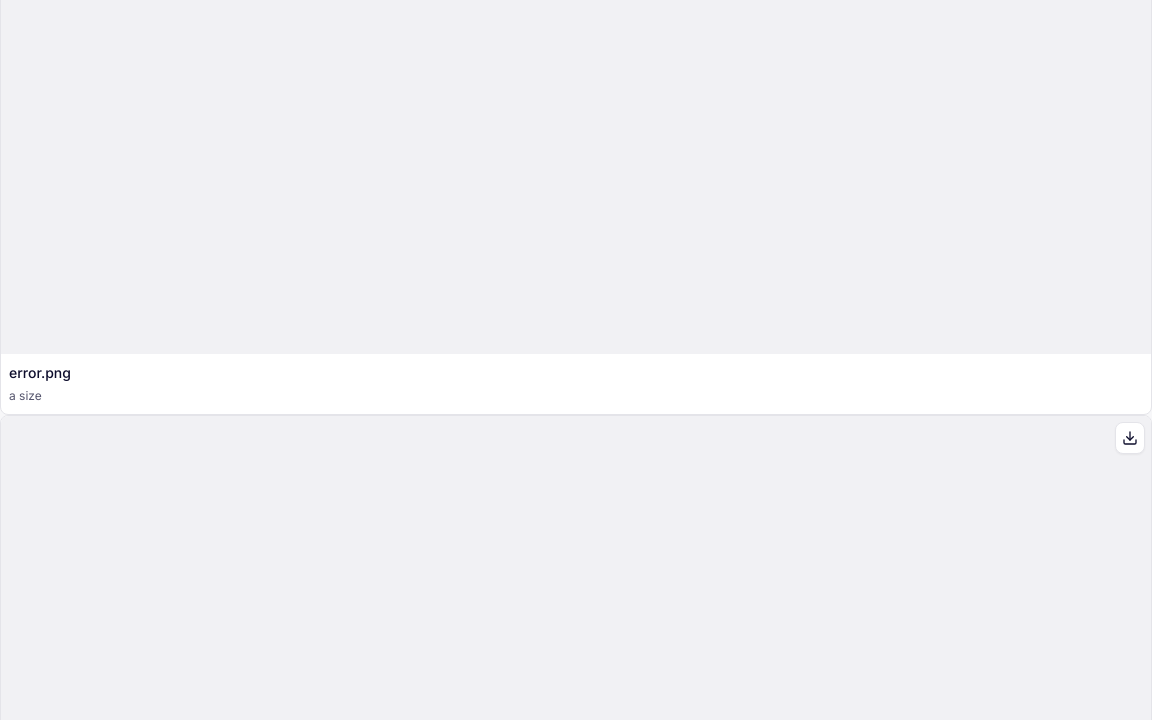
Test: AttachmentViewer › gives focus to the tile of the file shown last when it closes
(page scrolled)
Click the button with aria-label "Open error.png": [40, 372] box [9, 362, 1143, 384]
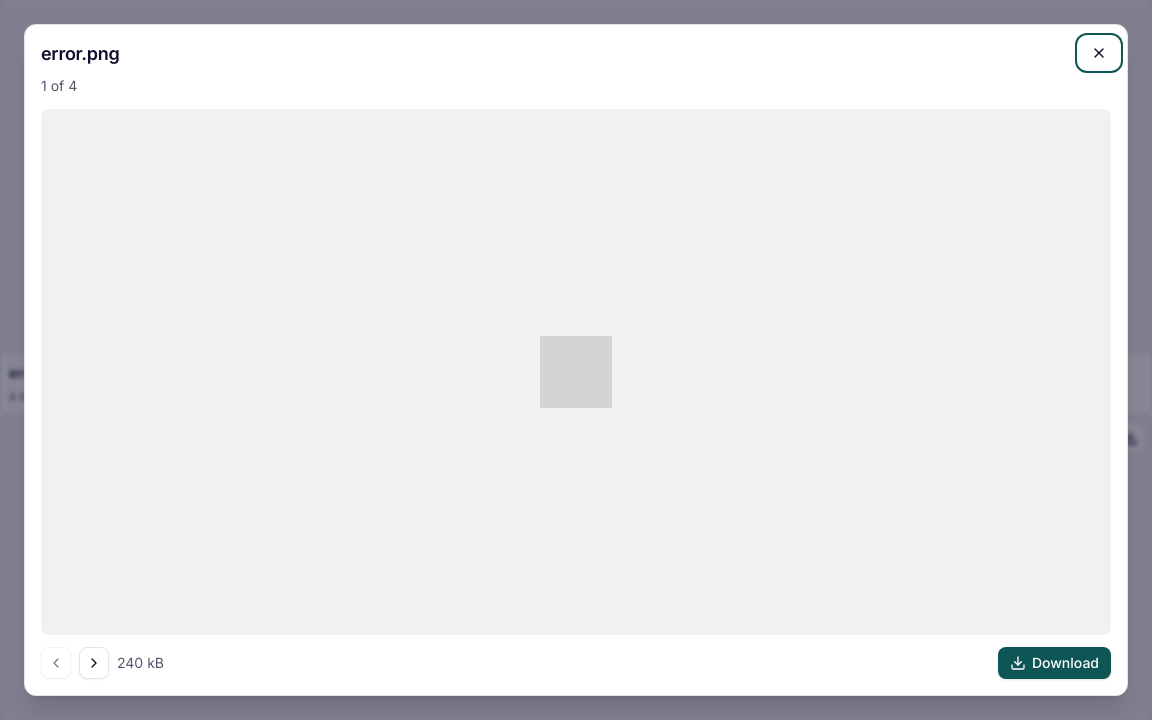
Click the button named "Next file": [94, 663] box [79, 647, 109, 679]
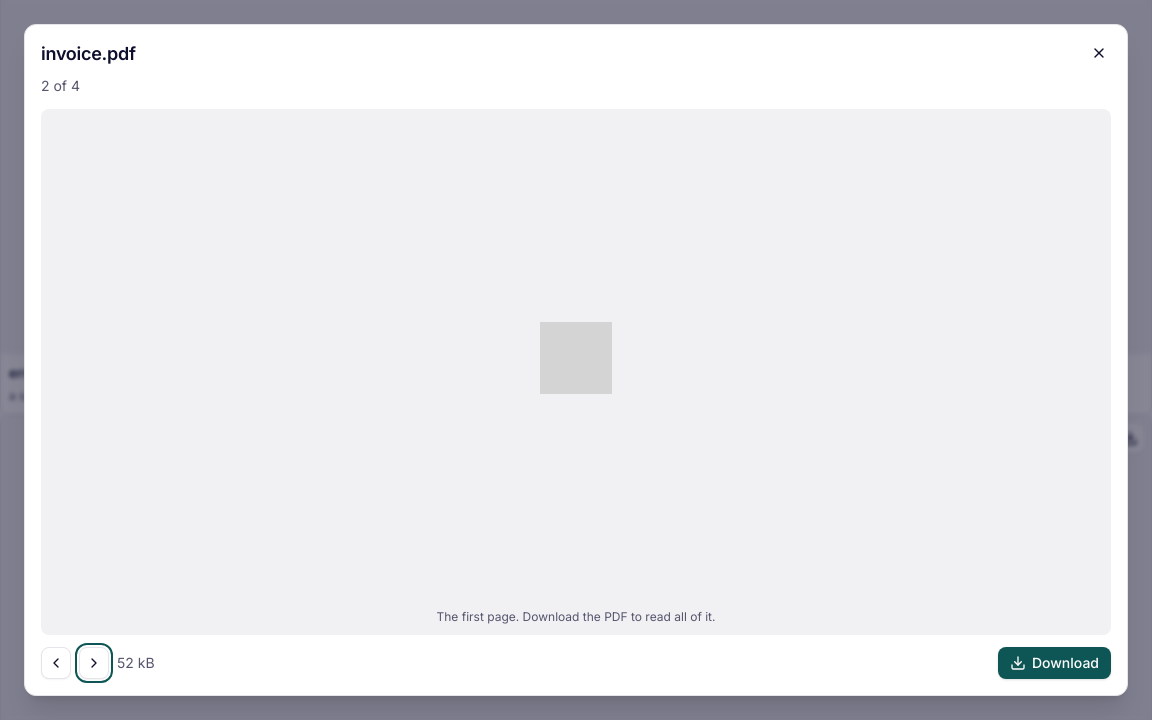
Press Escape
(page scrolled)
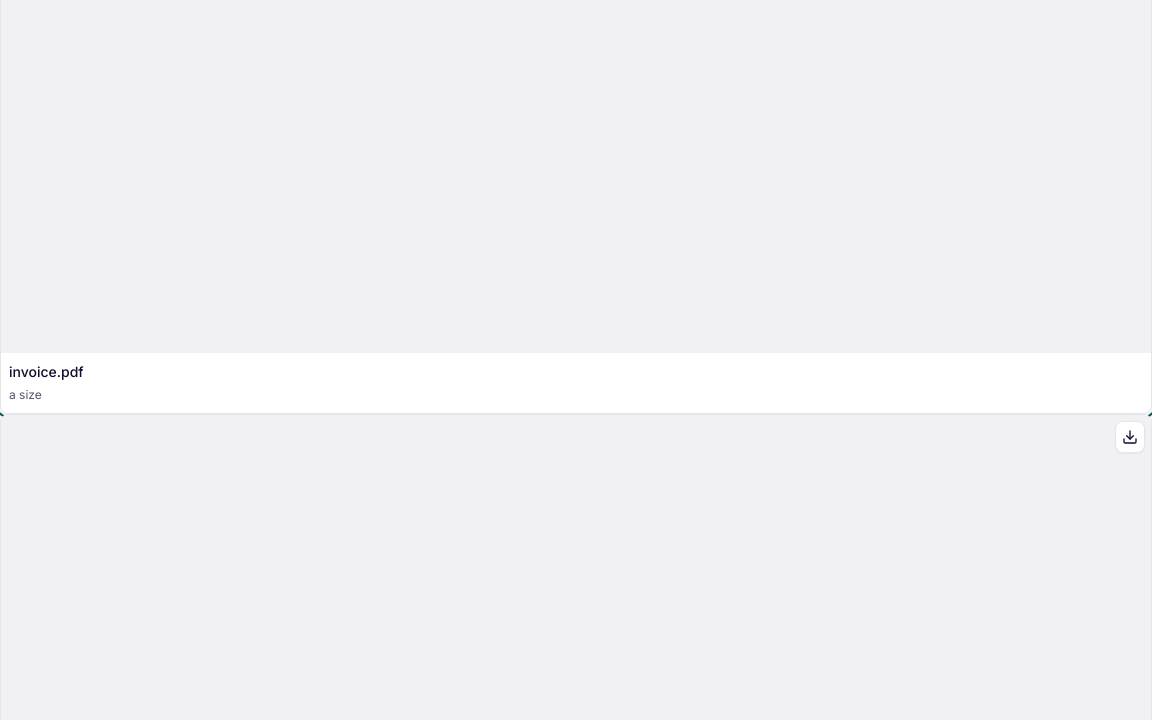
Result: the dialog is gone
